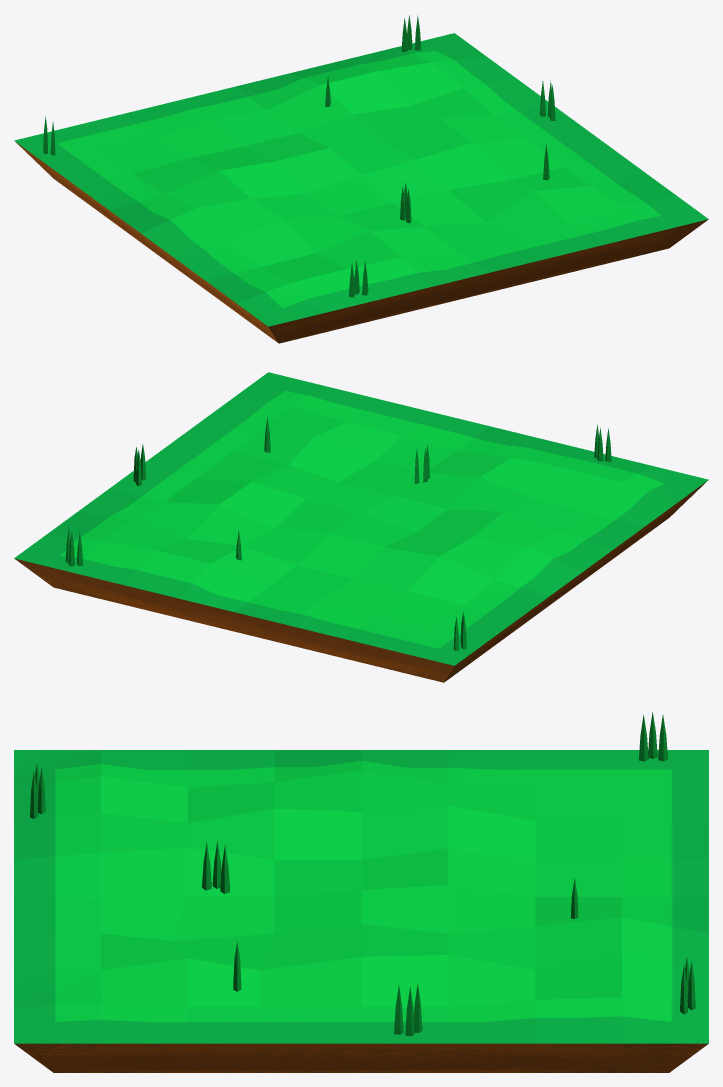
Rendered from grassvariation2.fbx.
3 renders of one model, top to bottom at view 1: azimuth 30°, elevation 25°; view 2: azimuth 150°, elevation 25°; view 3: azimuth 270°, elevation 25°, orthographic. The views are drawn at different scales.
Visible parts, largest first — view 1: pCube1; view 2: pCube1; view 3: pCube1.
Part boxes in pixels (x1,y1,x2,y2): pCube1: (14, 33, 708, 343); pCube1: (14, 372, 708, 682); pCube1: (14, 750, 708, 1072).
Bounding box in the file's own units: 97.93 × 14.79 × 97.93.
Materials: 3 (2 with a texture image).
